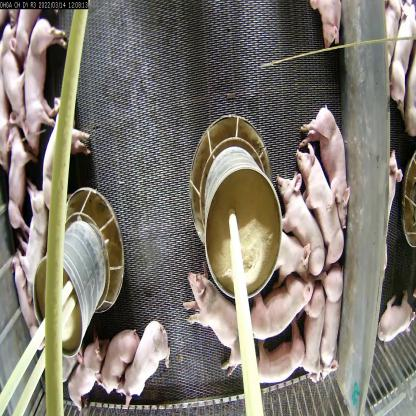Pig: (283, 132, 350, 268), (173, 260, 247, 382), (13, 22, 68, 150), (34, 105, 88, 229), (246, 261, 316, 344), (272, 174, 324, 282), (16, 198, 58, 322), (252, 325, 322, 399), (316, 90, 358, 213), (298, 286, 330, 396), (126, 327, 172, 398), (2, 128, 32, 236), (94, 332, 127, 390), (324, 263, 341, 369), (70, 340, 94, 396)
